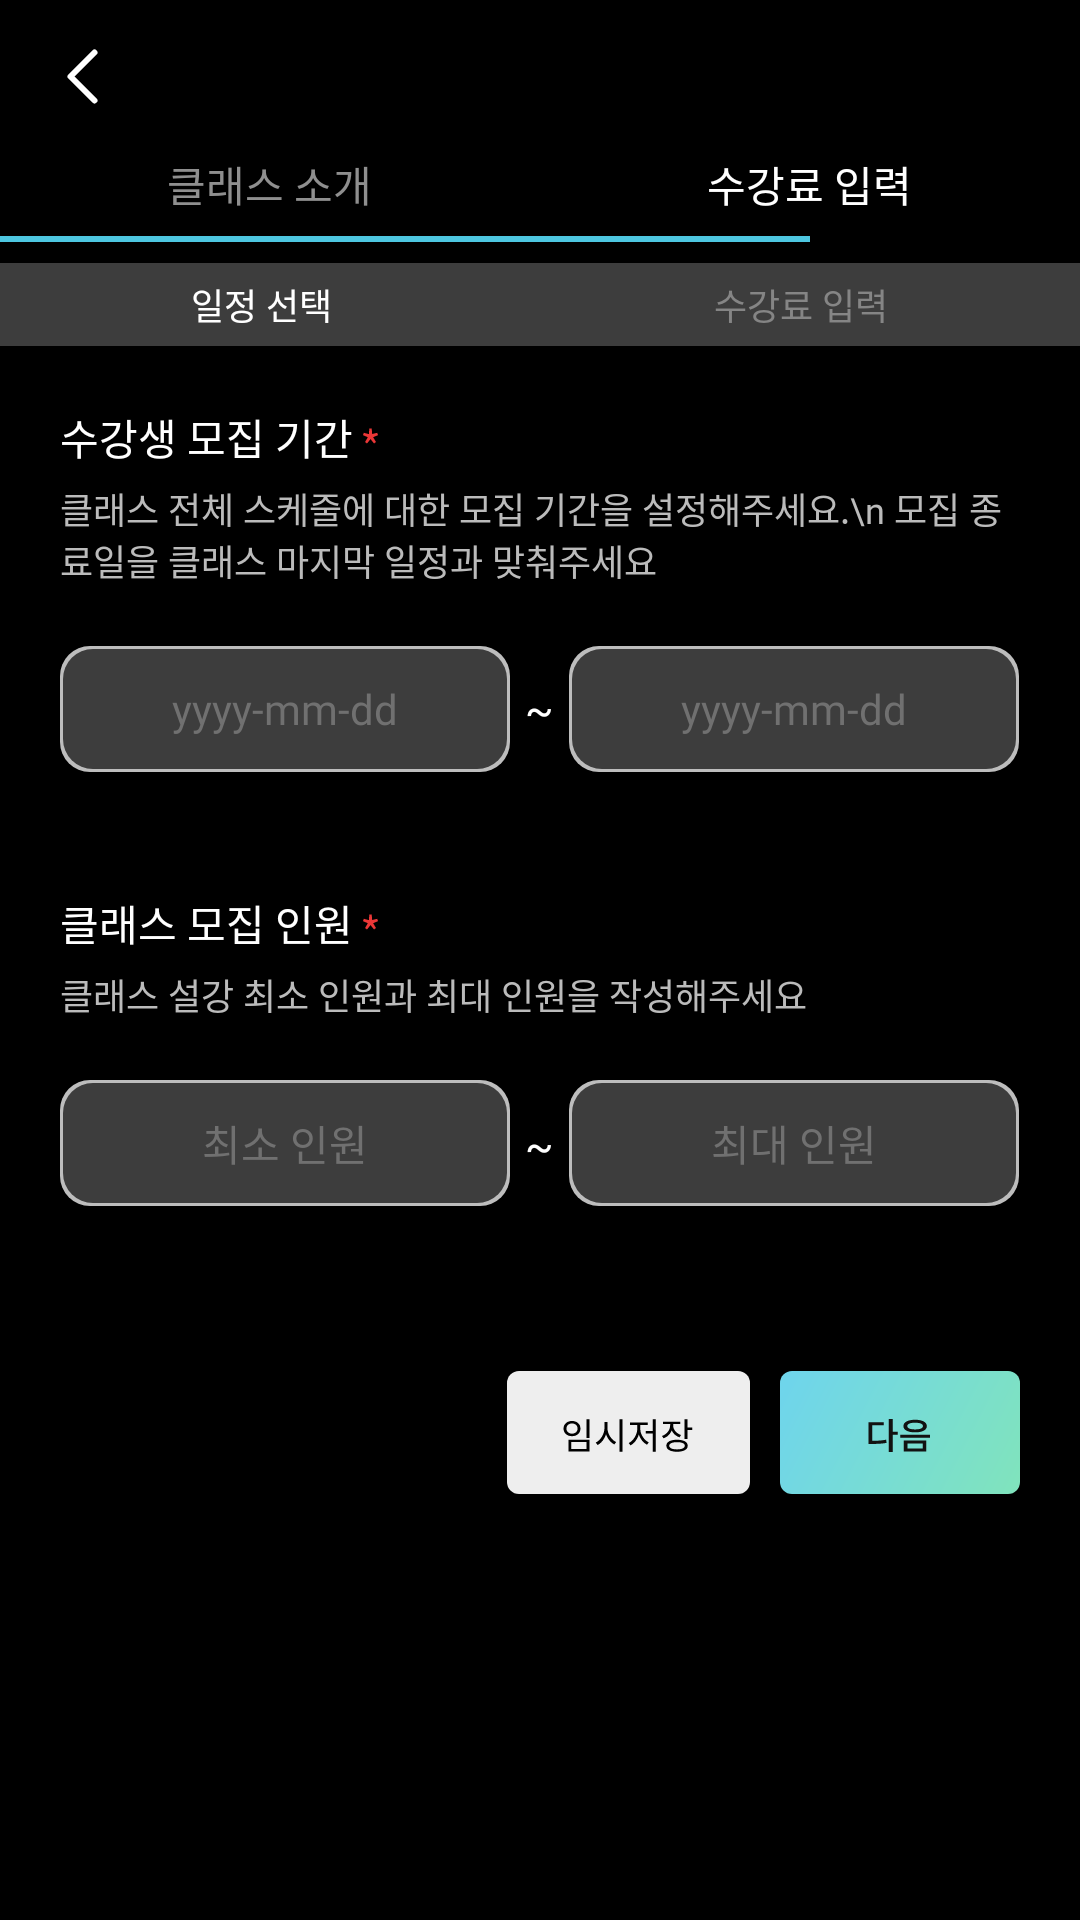

Icons on this 1080 × 1920 Android screen, each with the point to tap as (x,y):
back key: (82,76)
